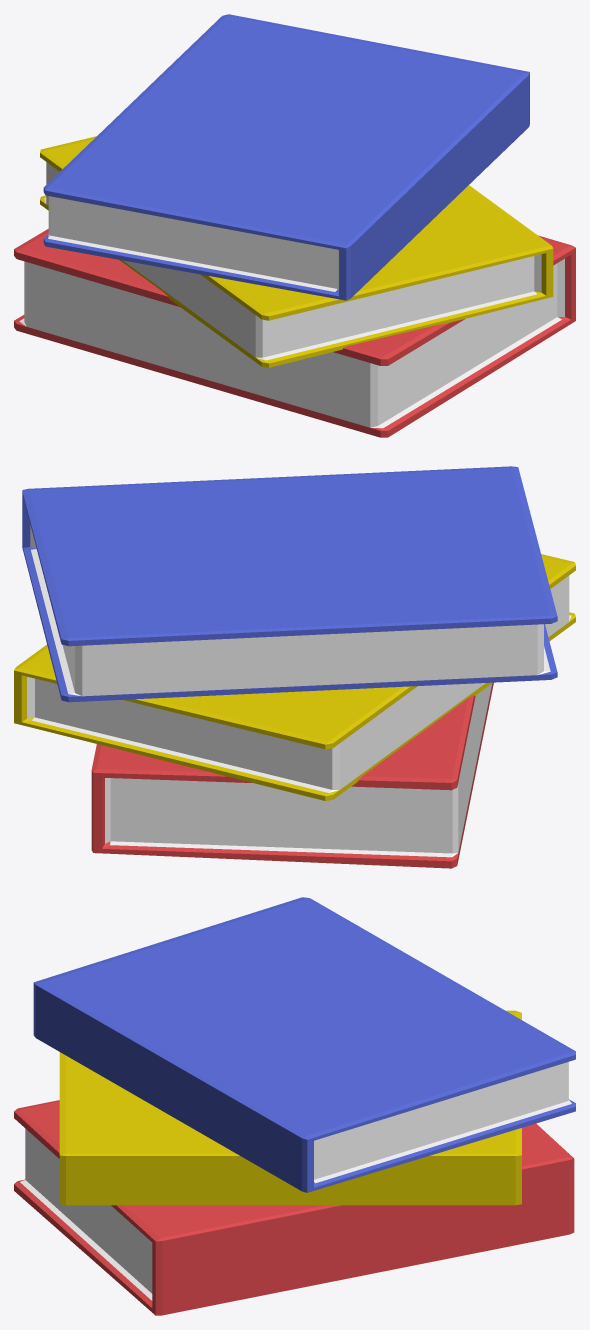
The model's file is Book_stack_1.fbx.
3 renders of one model, top to bottom at view 1: azimuth 30°, elevation 25°; view 2: azimuth 150°, elevation 25°; view 3: azimuth 270°, elevation 25°, orthographic. The views are drawn at different scales.
Visible parts, largest first — view 1: Book stack 1; view 2: Book stack 1; view 3: Book stack 1.
Part boxes in pixels (x1,y1,x2,y2): Book stack 1: [14, 14, 575, 437]; Book stack 1: [14, 466, 575, 868]; Book stack 1: [14, 897, 575, 1315].
Bounding box in the file's own units: 98.38 × 37.35 × 97.01.
